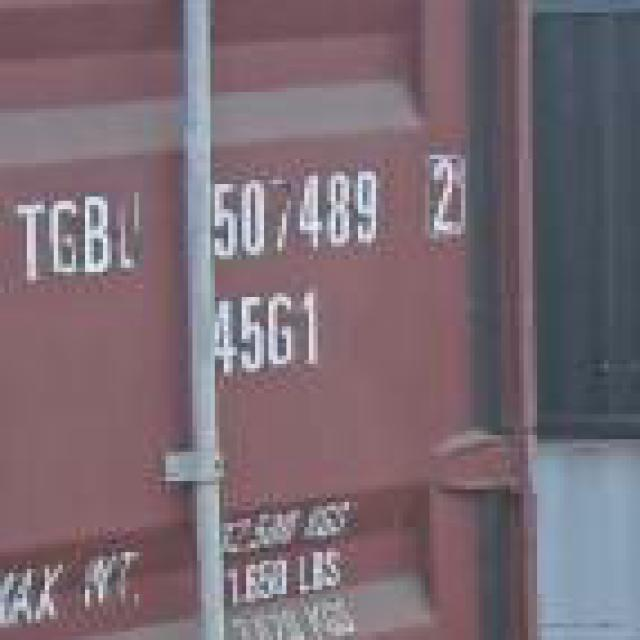dv: (407, 130, 482, 249)
owner: (0, 177, 169, 292)
serial: (201, 160, 391, 270)
size: (196, 285, 344, 391)
